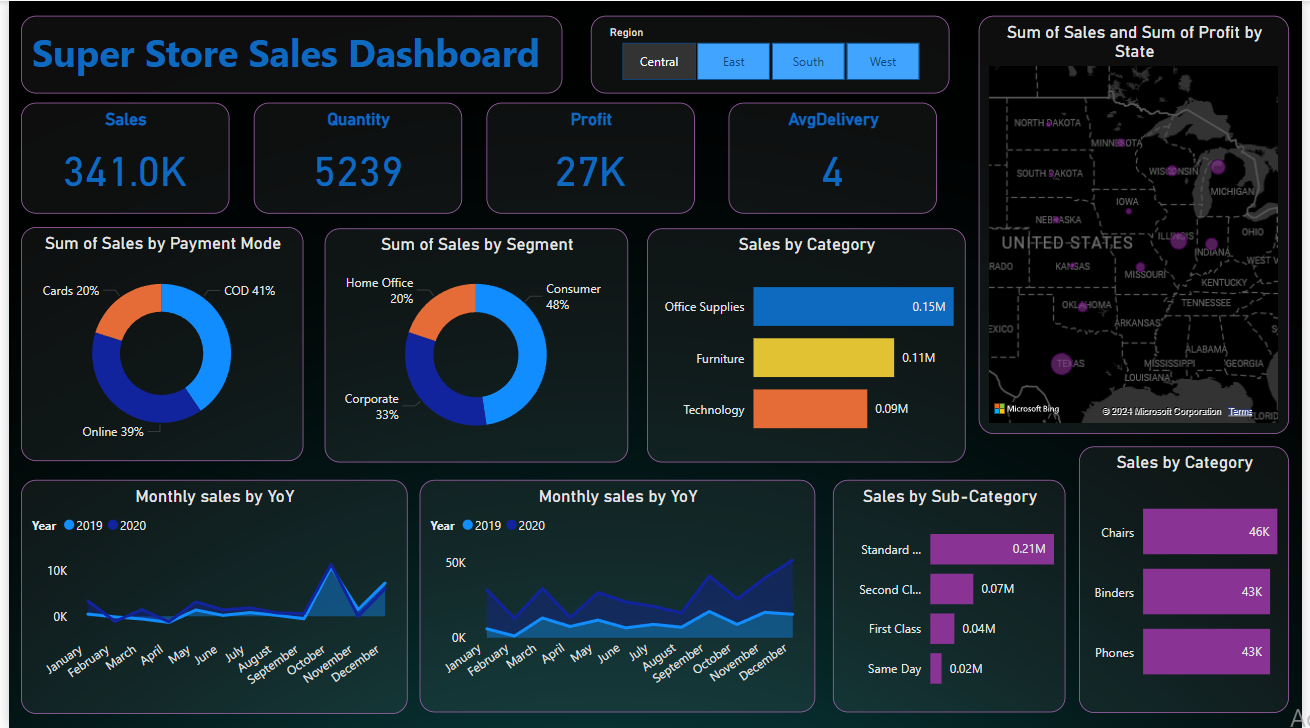

Layout of this report page (visuals, bound fields, positions):
{"tool":"powerbi","page":{"name":"Page 1","canvas":[1280,720],"ordinal":0},"visuals":[{"type":"clusteredBarChart","title":"Sales by Category ","fields":{"Category":["SuperStore_Sales_Dataset.Category"],"Y":["Sum(SuperStore_Sales_Dataset.Sales)"]},"box":[631.7,225.1,315.2,231.8],"z":0},{"type":"clusteredBarChart","title":"Sales by Sub-Category ","fields":{"Y":["Sum(SuperStore_Sales_Dataset.Sales)"],"Category":["SuperStore_Sales_Dataset.Ship Mode"]},"box":[815.8,474.1,230.4,230.4],"z":1000},{"type":"clusteredBarChart","title":"Sales by Category ","fields":{"Y":["Sum(SuperStore_Sales_Dataset.Sales)"],"Category":["SuperStore_Sales_Dataset.Sub-Category"]},"box":[1059.5,441,207.9,263.6],"z":2000},{"type":"stackedAreaChart","title":" Monthly sales by YoY","fields":{"Category":["SuperStore_Sales_Dataset.Order Date.Variation.Date Hierarchy.Month","SuperStore_Sales_Dataset.Order Date.Variation.Date Hierarchy.Day"],"Y":["Sum(SuperStore_Sales_Dataset.Sales)"],"Series":["SuperStore_Sales_Dataset.Order Date.Variation.Date Hierarchy.Year"]},"box":[406.6,474.1,392,230.4],"z":3000},{"type":"stackedAreaChart","title":" Monthly sales by YoY","fields":{"Category":["SuperStore_Sales_Dataset.Order Date.Variation.Date Hierarchy.Month","SuperStore_Sales_Dataset.Order Date.Variation.Date Hierarchy.Day"],"Series":["SuperStore_Sales_Dataset.Order Date.Variation.Date Hierarchy.Year"],"Y":["Sum(SuperStore_Sales_Dataset.Profit)"]},"box":[11.9,474.1,382.8,231.8],"z":4000},{"type":"map","fields":{"Category":["SuperStore_Sales_Dataset.State"],"Size":["Sum(SuperStore_Sales_Dataset.Sales)"]},"box":[960.2,14.6,307.3,414.5],"z":5000},{"type":"donutChart","fields":{"Category":["SuperStore_Sales_Dataset.Segment"],"Y":["Sum(SuperStore_Sales_Dataset.Sales)"]},"box":[312.6,225.1,300.6,231.8],"z":6000},{"type":"donutChart","fields":{"Y":["Sum(SuperStore_Sales_Dataset.Sales)"],"Category":["SuperStore_Sales_Dataset.Payment Mode"]},"box":[11.9,223.8,279.4,231.8],"z":7000},{"type":"slicer","fields":{"Values":["SuperStore_Sales_Dataset.Region"]},"box":[576.1,14.6,354.9,76.8],"z":8000},{"type":"textbox","box":[11.9,14.6,536.4,76.8],"z":9000},{"type":"card","title":"Sales","fields":{"Values":["Sum(SuperStore_Sales_Dataset.Sales)"]},"box":[11.9,100.7,206.6,109.9],"z":10000},{"type":"card","title":"Quantity","fields":{"Values":["Sum(SuperStore_Sales_Dataset.Quantity)"]},"box":[242.4,100.7,206.6,109.9],"z":11000},{"type":"card","title":"Profit","fields":{"Values":["Sum(SuperStore_Sales_Dataset.Profit)"]},"box":[472.8,100.7,206.6,109.9],"z":12000},{"type":"card","title":"AvgDelivery","fields":{"Values":["Avg(SuperStore_Sales_Dataset.AvgDelivery)"]},"box":[712.5,100.7,206.6,109.9],"z":13000}]}

Visuals, with their boxes in screenshot pixels (x1, y1, x2, y2), scaled from the page's 1280x720 canvas onto the 1310x728 screenshot:
"Sales by Category " clusteredBarChart: {"x1": 647, "y1": 228, "x2": 969, "y2": 462}
"Sales by Sub-Category " clusteredBarChart: {"x1": 835, "y1": 479, "x2": 1071, "y2": 712}
"Sales by Category " clusteredBarChart: {"x1": 1084, "y1": 446, "x2": 1297, "y2": 712}
" Monthly sales by YoY" stackedAreaChart: {"x1": 416, "y1": 479, "x2": 817, "y2": 712}
" Monthly sales by YoY" stackedAreaChart: {"x1": 12, "y1": 479, "x2": 404, "y2": 714}
map - SuperStore_Sales_Dataset.State x Sum(SuperStore_Sales_Dataset.Sales): {"x1": 983, "y1": 15, "x2": 1297, "y2": 434}
donutChart - SuperStore_Sales_Dataset.Segment x Sum(SuperStore_Sales_Dataset.Sales): {"x1": 320, "y1": 228, "x2": 628, "y2": 462}
donutChart - Sum(SuperStore_Sales_Dataset.Sales) x SuperStore_Sales_Dataset.Payment Mode: {"x1": 12, "y1": 226, "x2": 298, "y2": 461}
slicer - SuperStore_Sales_Dataset.Region: {"x1": 590, "y1": 15, "x2": 953, "y2": 92}
textbox: {"x1": 12, "y1": 15, "x2": 561, "y2": 92}
"Sales" card: {"x1": 12, "y1": 102, "x2": 224, "y2": 213}
"Quantity" card: {"x1": 248, "y1": 102, "x2": 460, "y2": 213}
"Profit" card: {"x1": 484, "y1": 102, "x2": 695, "y2": 213}
"AvgDelivery" card: {"x1": 729, "y1": 102, "x2": 941, "y2": 213}
